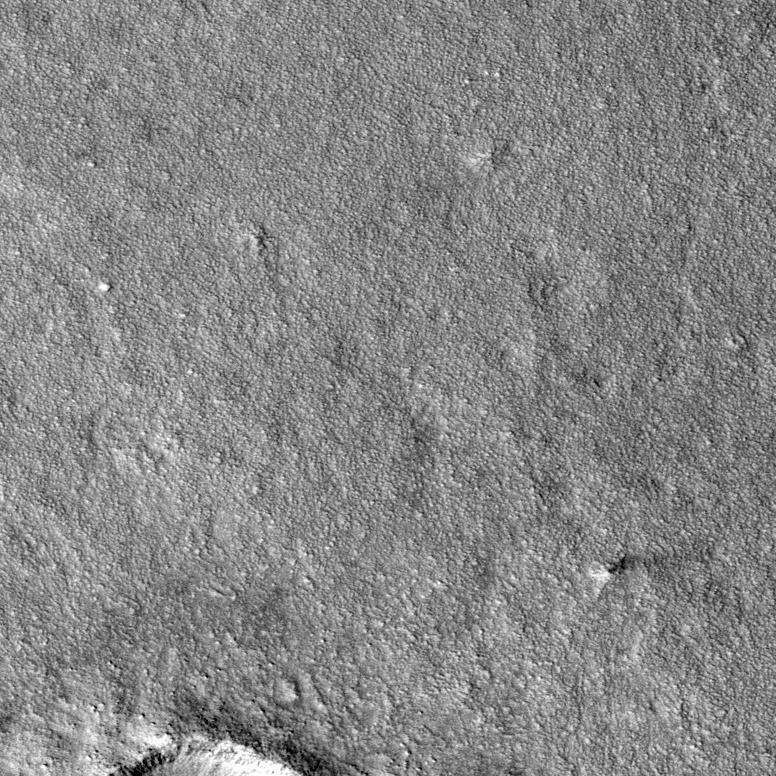dust_devil: (586, 550, 644, 599)
